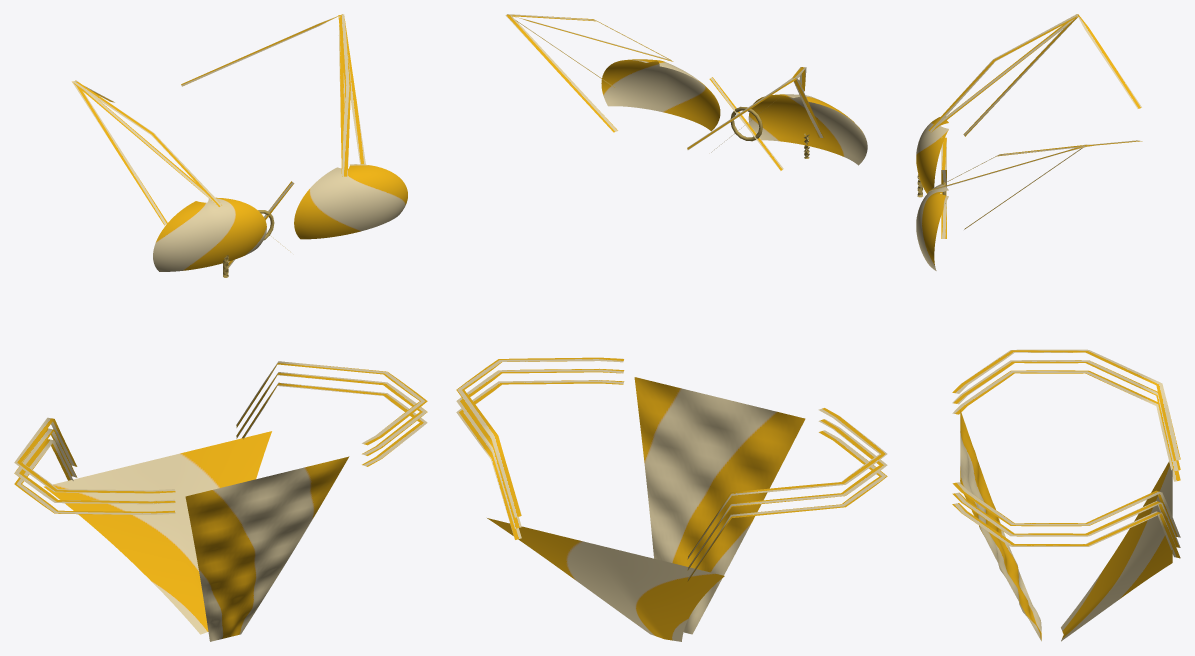
Rendered from bikini_db851116.obj.
3 renders of one model, left to right at view 1: azimuth 30°, elevation 25°; view 2: azimuth 150°, elevation 25°; view 3: azimuth 270°, elevation 25°, orthographic. The views are drawn at different scales.
Visible parts, largest first — view 1: bottom_back_classic, bottom_front_ruched, cup_right_cone, cup_left_cone, bottom_strap_left_2, bottom_strap_left_1, bottom_strap_right_2, bottom_strap_right_1, bottom_strap_left_0, bottom_strap_right_0, strap_right_web_a, strap_right_web_c (+4 smaller); view 2: bottom_front_ruched, bottom_back_classic, cup_right_cone, cup_left_cone, bottom_strap_right_2, bottom_strap_right_1, bottom_strap_right_0, bottom_strap_left_2, bottom_strap_left_1, bottom_strap_left_0, strap_right_web_c; view 3: bottom_back_classic, bottom_front_ruched, bottom_strap_left_2, cup_right_cone, cup_left_cone, bottom_strap_left_0, bottom_strap_left_1, bottom_strap_right_0, bottom_strap_right_1, bottom_strap_right_2, strap_left_web_c, strap_left_web_a (+3 smaller).
Part boxes in pixels (x1,y1,x2,y2): bottom_back_classic: (44, 431, 271, 634); bottom_front_ruched: (185, 456, 349, 641); cup_right_cone: (294, 164, 407, 239); cup_left_cone: (153, 197, 266, 271); bottom_strap_left_2: (14, 417, 175, 493); bottom_strap_left_1: (14, 428, 175, 504); bottom_strap_right_2: (236, 361, 427, 445); bottom_strap_right_1: (236, 372, 427, 455); bottom_strap_left_0: (14, 439, 175, 514); bottom_strap_right_0: (241, 382, 427, 466); strap_right_web_a: (338, 15, 350, 176); strap_right_web_c: (181, 14, 344, 176); bottom_front_ruched: (634, 377, 805, 634); bottom_back_classic: (487, 518, 724, 641); cup_right_cone: (601, 59, 720, 131); cup_left_cone: (748, 94, 867, 165); bottom_strap_right_2: (456, 357, 623, 517); bottom_strap_right_1: (456, 368, 624, 528); bottom_strap_right_0: (456, 380, 624, 539); bottom_strap_left_2: (687, 408, 887, 559); bottom_strap_left_1: (687, 419, 887, 570); bottom_strap_left_0: (687, 430, 887, 581); strap_right_web_c: (505, 15, 673, 132); bottom_back_classic: (1061, 462, 1172, 641); bottom_front_ruched: (960, 410, 1041, 641); bottom_strap_left_2: (952, 349, 1180, 460); cup_right_cone: (916, 184, 948, 270); cup_left_cone: (916, 117, 948, 193); bottom_strap_left_0: (952, 370, 1180, 481); bottom_strap_left_1: (952, 360, 1180, 471); bottom_strap_right_0: (952, 503, 1180, 558); bottom_strap_right_1: (952, 492, 1180, 547); bottom_strap_right_2: (952, 482, 1180, 537); strap_left_web_c: (930, 14, 1141, 132); strap_left_web_a: (928, 14, 1078, 131).
Size of the model in its own units: 0.4374 by 0.643 by 0.2769.
Materials: 2 (1 with a texture image).
